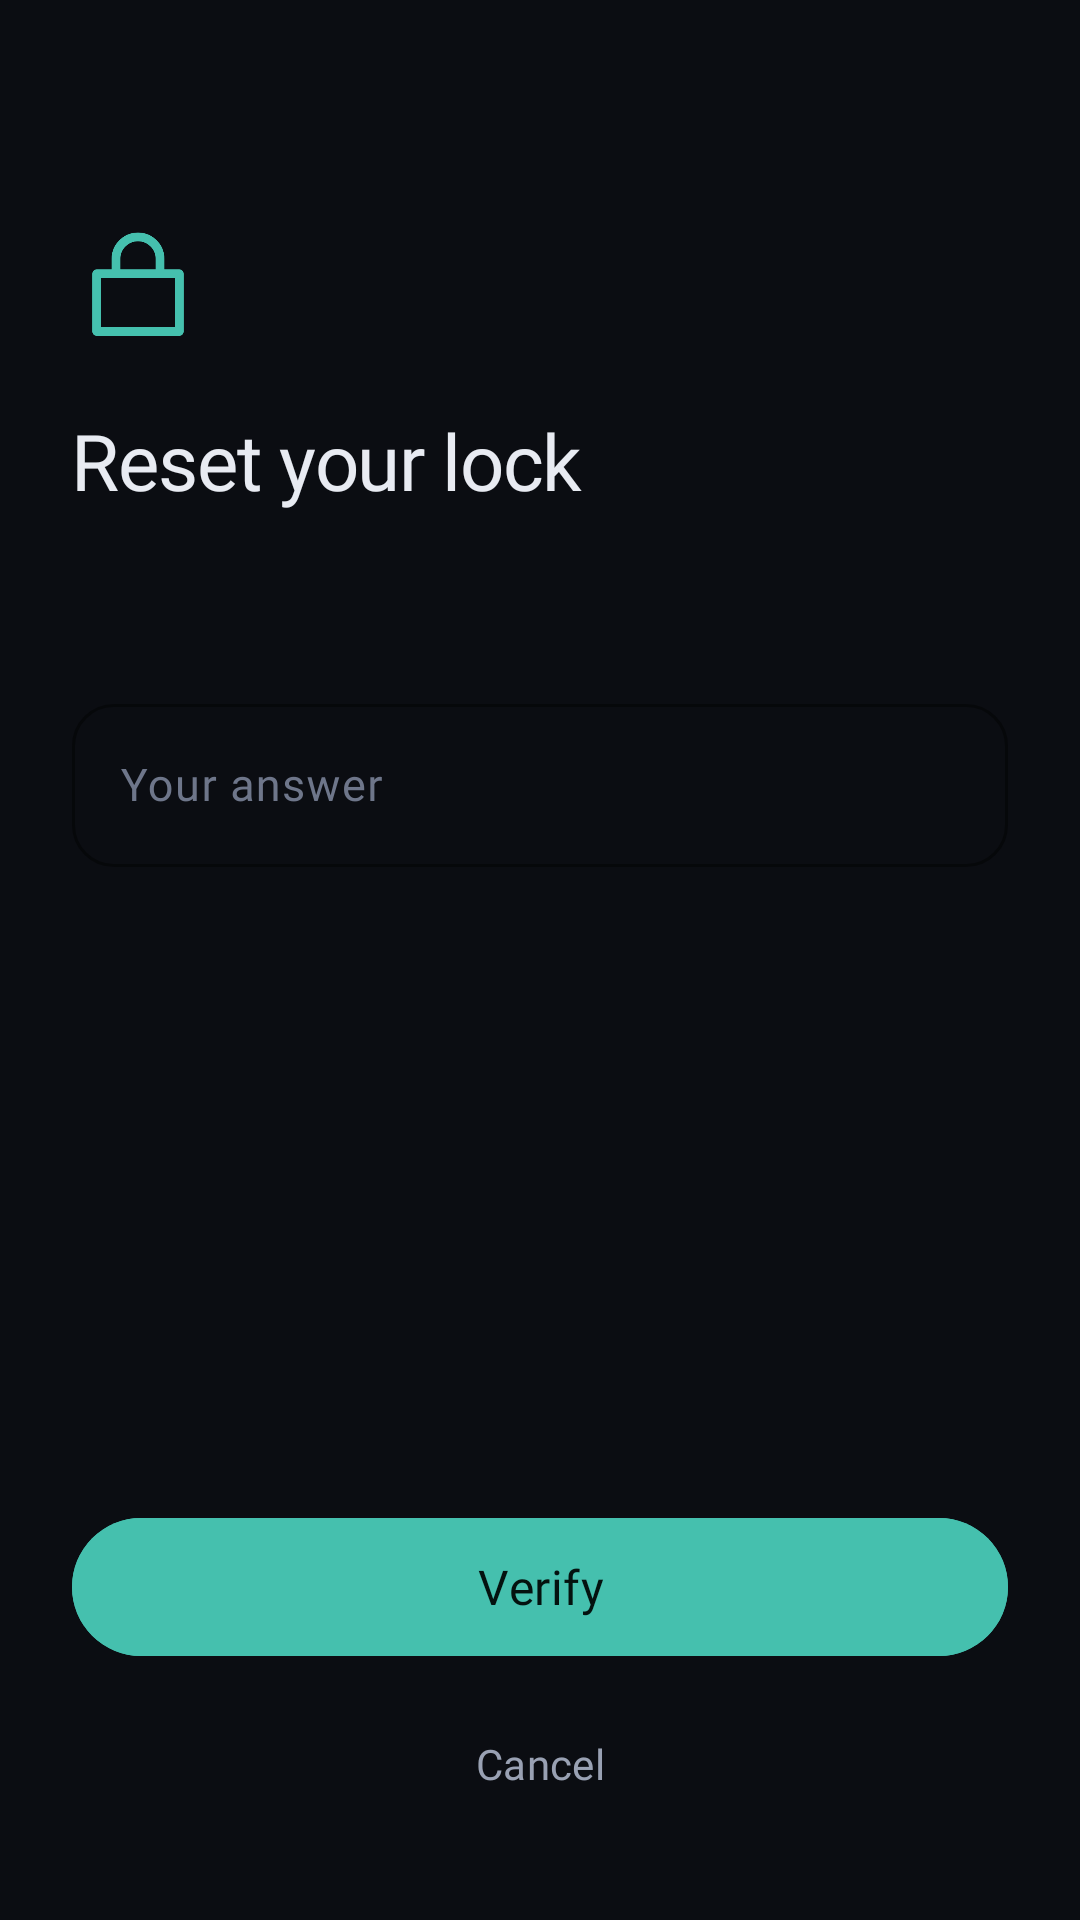

Named icons in this screenshot (1080x1920) and their centers, (x,y):
lock line: (138,284)
